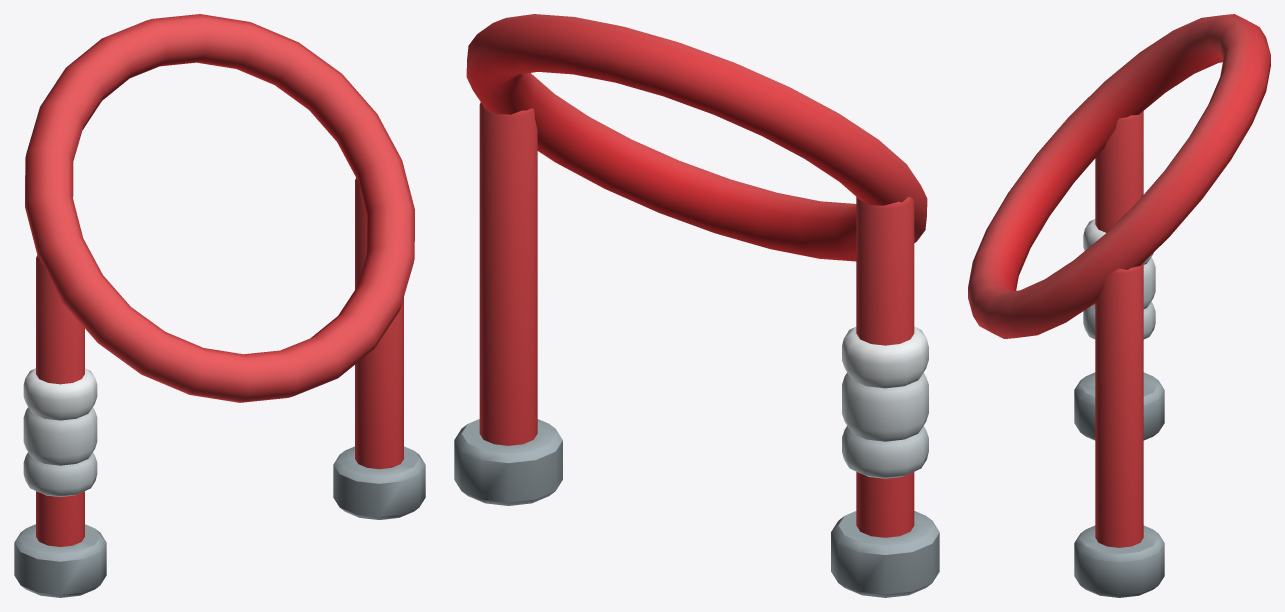
The model's file is hoop_angled_red.glb.
3 views of the same model, side by side, from view 1: azimuth 30°, elevation 25°; view 2: azimuth 150°, elevation 25°; view 3: azimuth 270°, elevation 25° (orthographic). The views are drawn at different scales.
Parts seen in each view (by area): view 1: hoop_angled_red; view 2: hoop_angled_red; view 3: hoop_angled_red.
Part boxes in pixels (box(x1,y1,x2,y2)): hoop_angled_red: box(14, 14, 425, 597); hoop_angled_red: box(454, 14, 939, 597); hoop_angled_red: box(968, 14, 1270, 597).
Bounding box in the file's own units: 3.75 × 4.25 × 2.51.
1 material, 1 textured.
